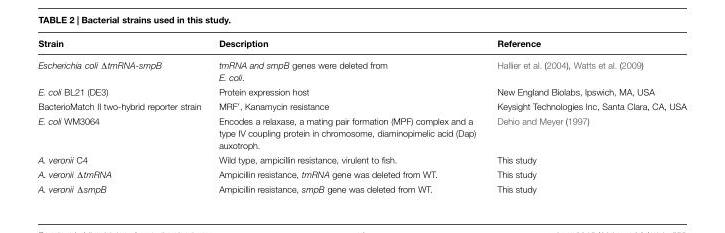table: (37, 37, 685, 193)
table column: (209, 37, 485, 193), (485, 37, 685, 193), (37, 37, 209, 193)
table column header: (37, 37, 685, 53)
table row: (37, 113, 685, 151), (37, 53, 685, 83), (37, 37, 685, 53), (37, 83, 685, 98), (37, 98, 685, 113), (37, 151, 685, 166), (37, 166, 685, 181), (37, 181, 685, 193)
